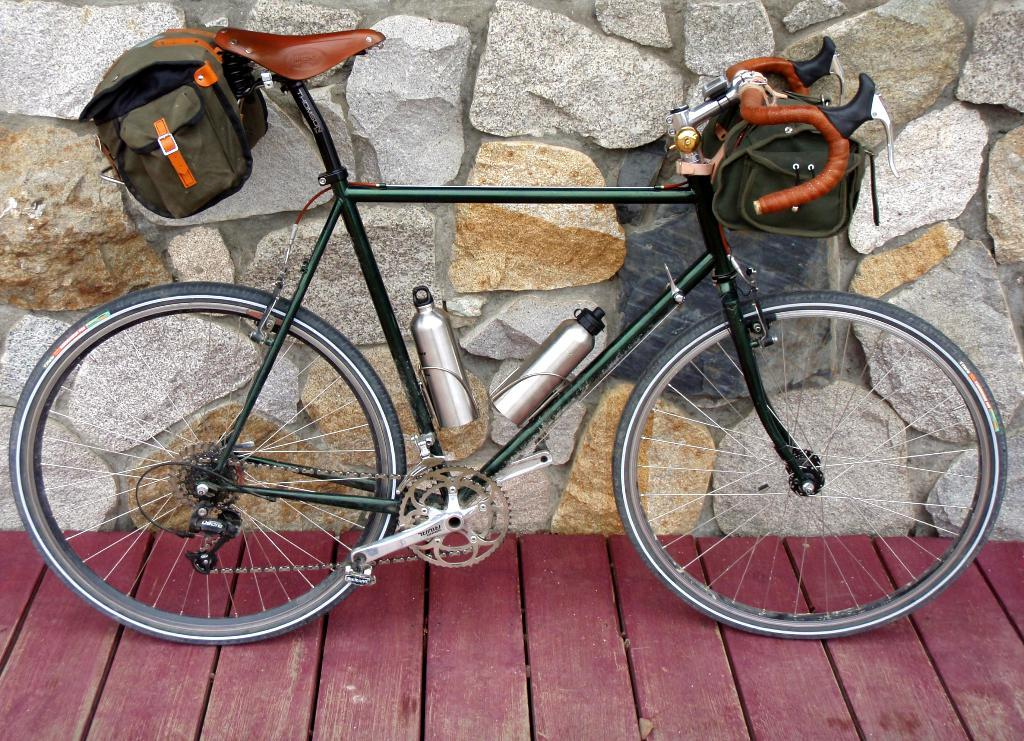Luggage-and-bags: (83, 27, 275, 222)
